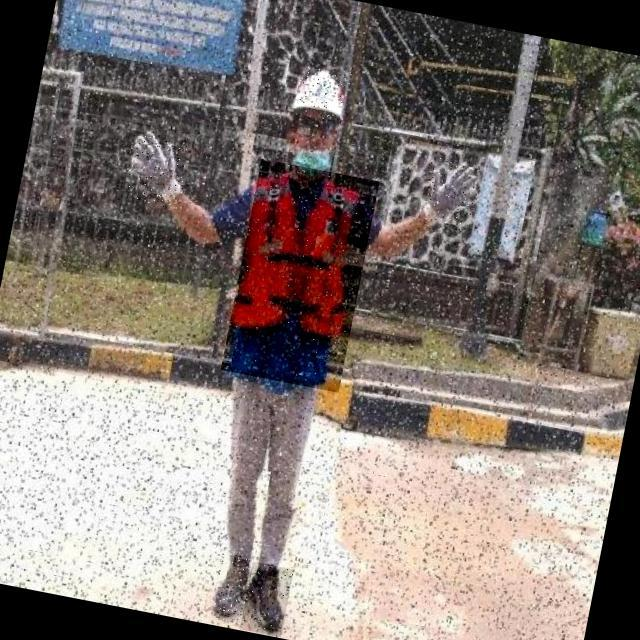Gloves: (123, 123, 190, 212), (417, 157, 481, 234)
Helmet: (292, 65, 351, 123)
Person: (112, 50, 489, 640)
Safety Boot: (240, 562, 294, 638), (209, 553, 254, 624)
Safety Vest: (221, 160, 380, 395)
